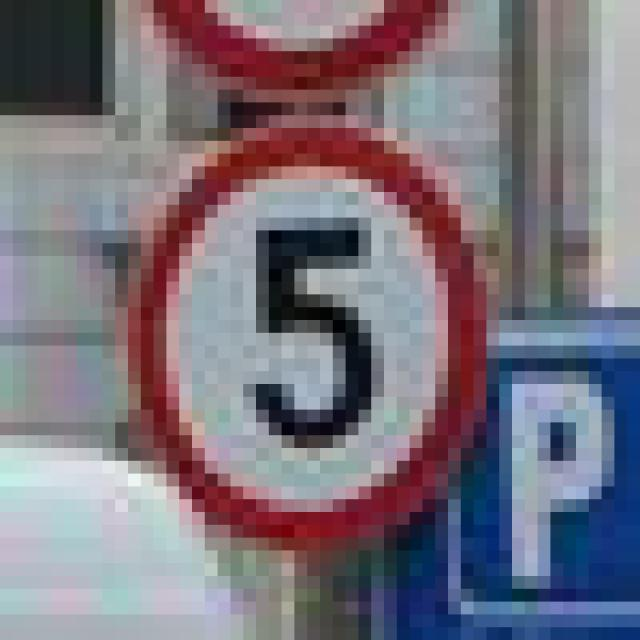speed_limit_20: (116, 90, 487, 550)
